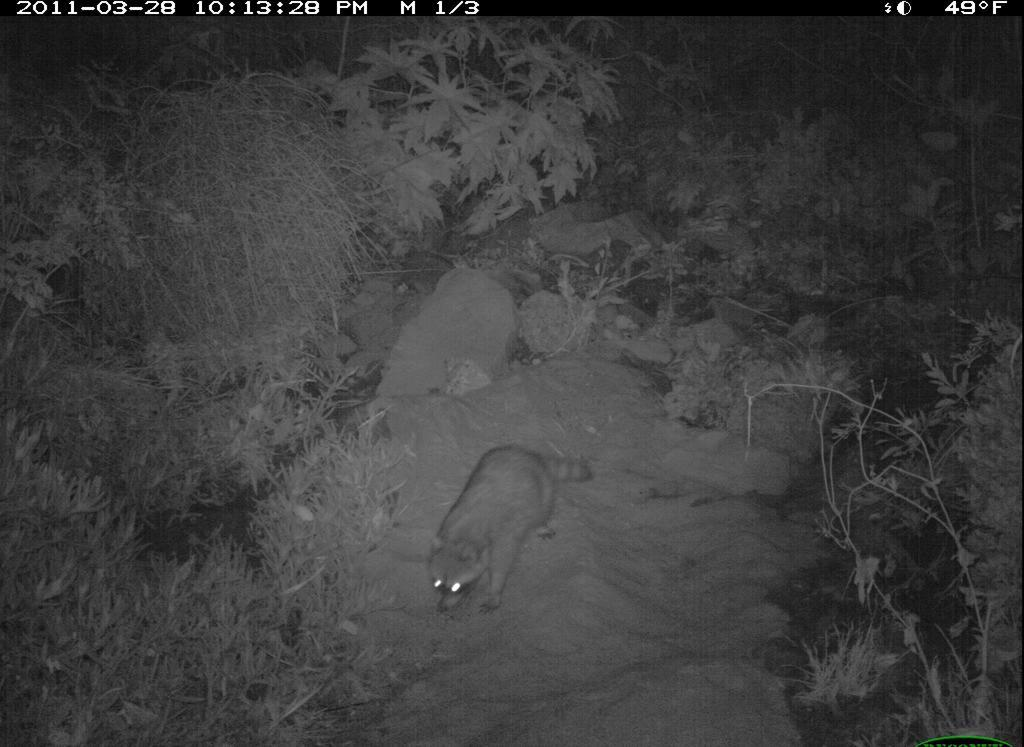raccoon: (413, 431, 601, 633)
